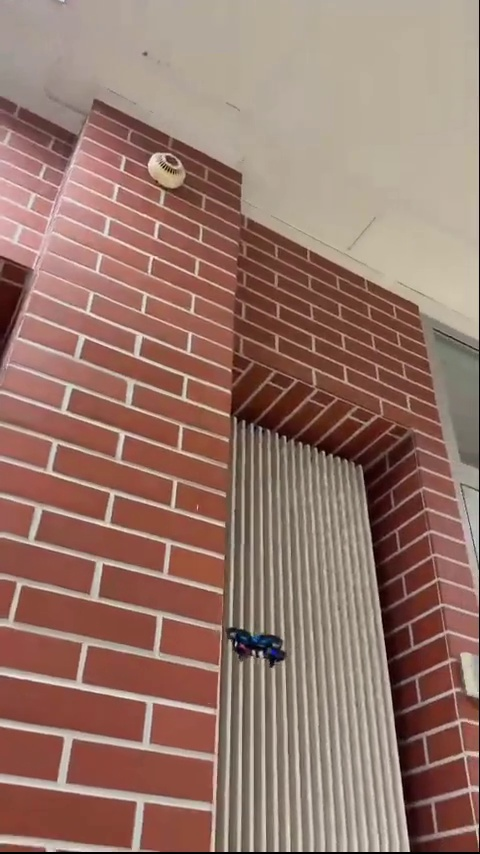drone: (225, 629, 283, 665)
